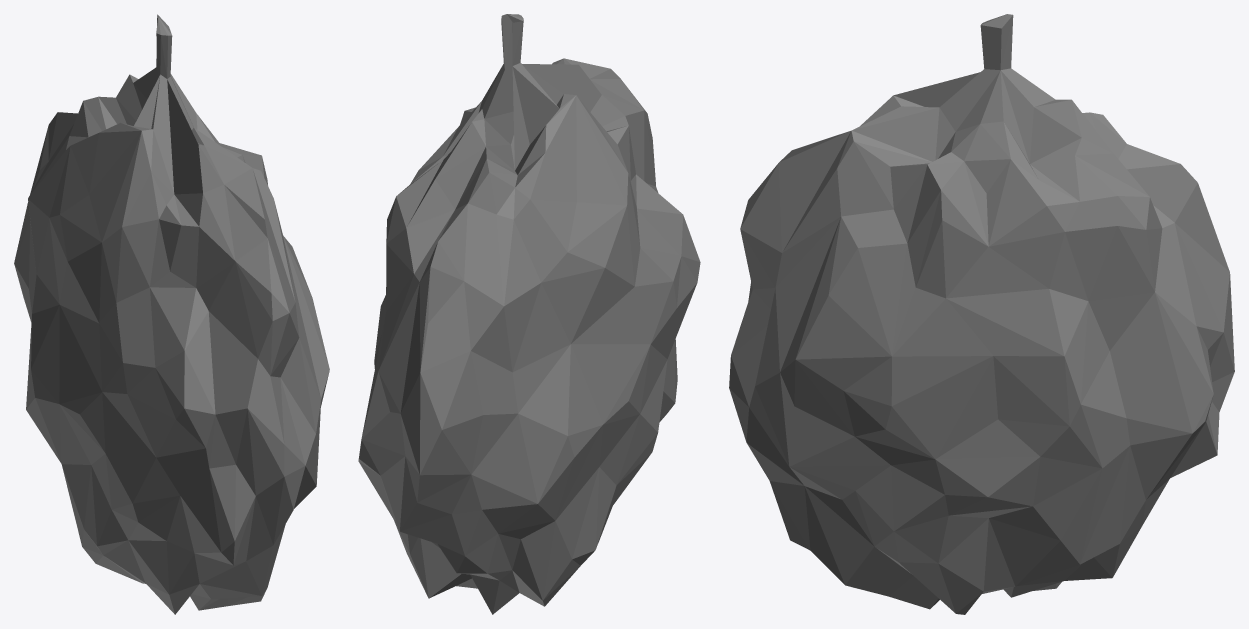
Rendered from CleanPlasticBag.fbx.
The picture shows the model from 3 angles, left to right: view 1: azimuth 30°, elevation 25°; view 2: azimuth 150°, elevation 25°; view 3: azimuth 270°, elevation 25°; orthographic projection. The views are drawn at different scales.
Parts seen in each view (by area): view 1: CleanPlasticBag; view 2: CleanPlasticBag; view 3: CleanPlasticBag.
Part boxes in pixels (x1,y1,x2,y2): CleanPlasticBag: (14,14,329,614); CleanPlasticBag: (358,14,700,614); CleanPlasticBag: (729,14,1234,614).
Size of the model in its own units: 13.36 by 38.19 by 29.37.
